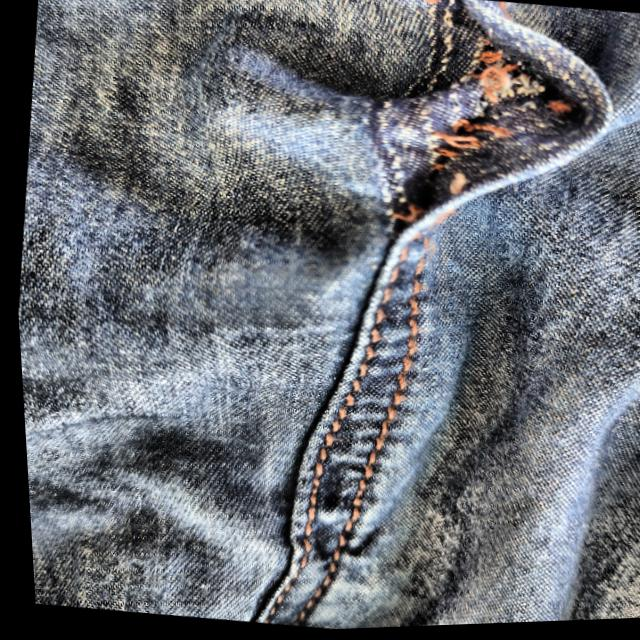seam: (350, 0, 640, 253)
